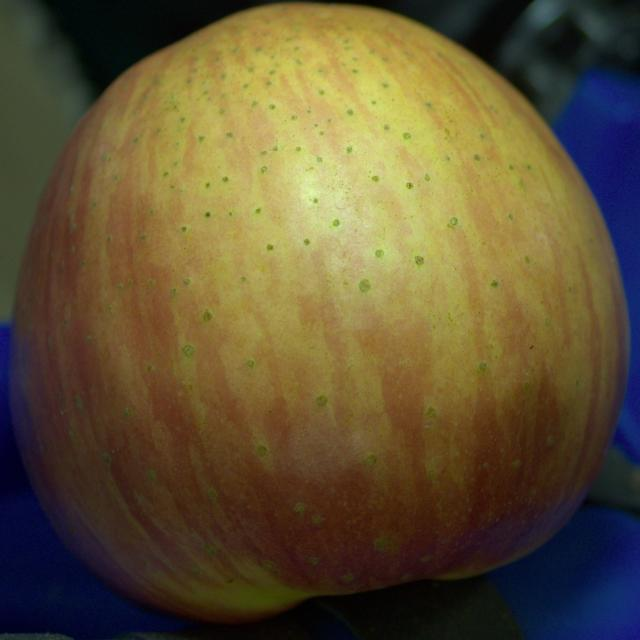apple: (9, 4, 629, 622)
